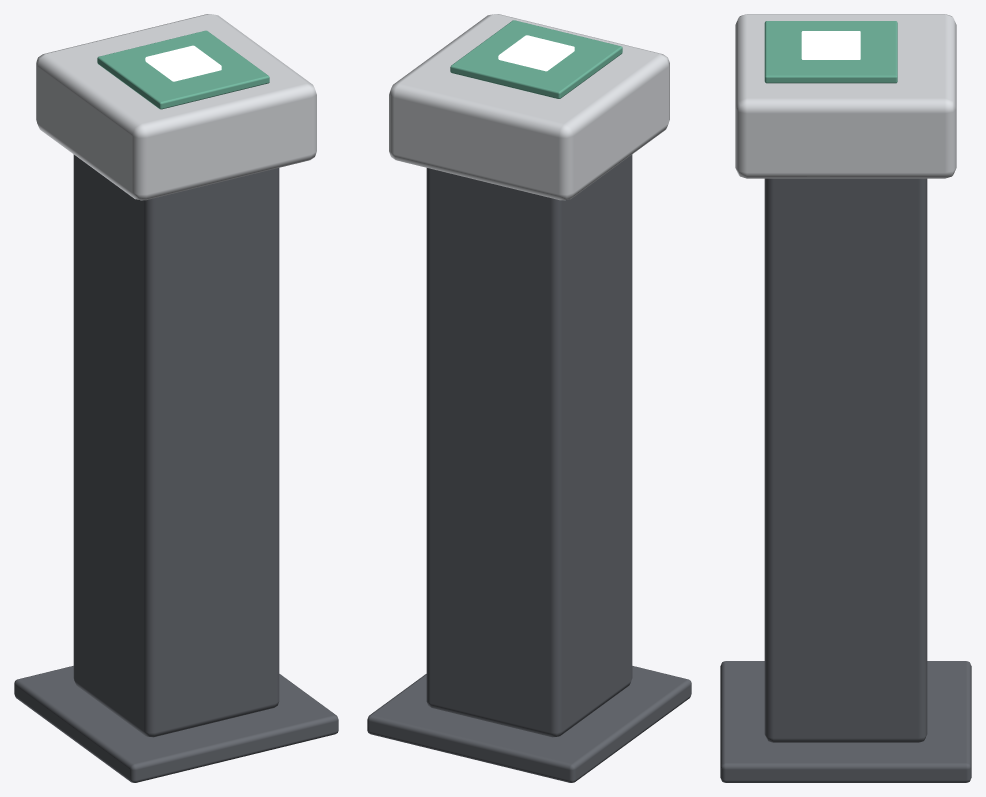
3 renders of one model, left to right at view 1: azimuth 30°, elevation 25°; view 2: azimuth 150°, elevation 25°; view 3: azimuth 270°, elevation 25°, orthographic. The views are drawn at different scales.
Parts seen in each view (by area): view 1: ticket-scanner; view 2: ticket-scanner; view 3: ticket-scanner.
Boxes of the visible parts, box(x1,y1,x2,y2) form: ticket-scanner: box(14, 14, 338, 782); ticket-scanner: box(367, 14, 691, 782); ticket-scanner: box(720, 14, 971, 782).
Bounding box in the file's own units: 0.34 × 1.03 × 0.34.
